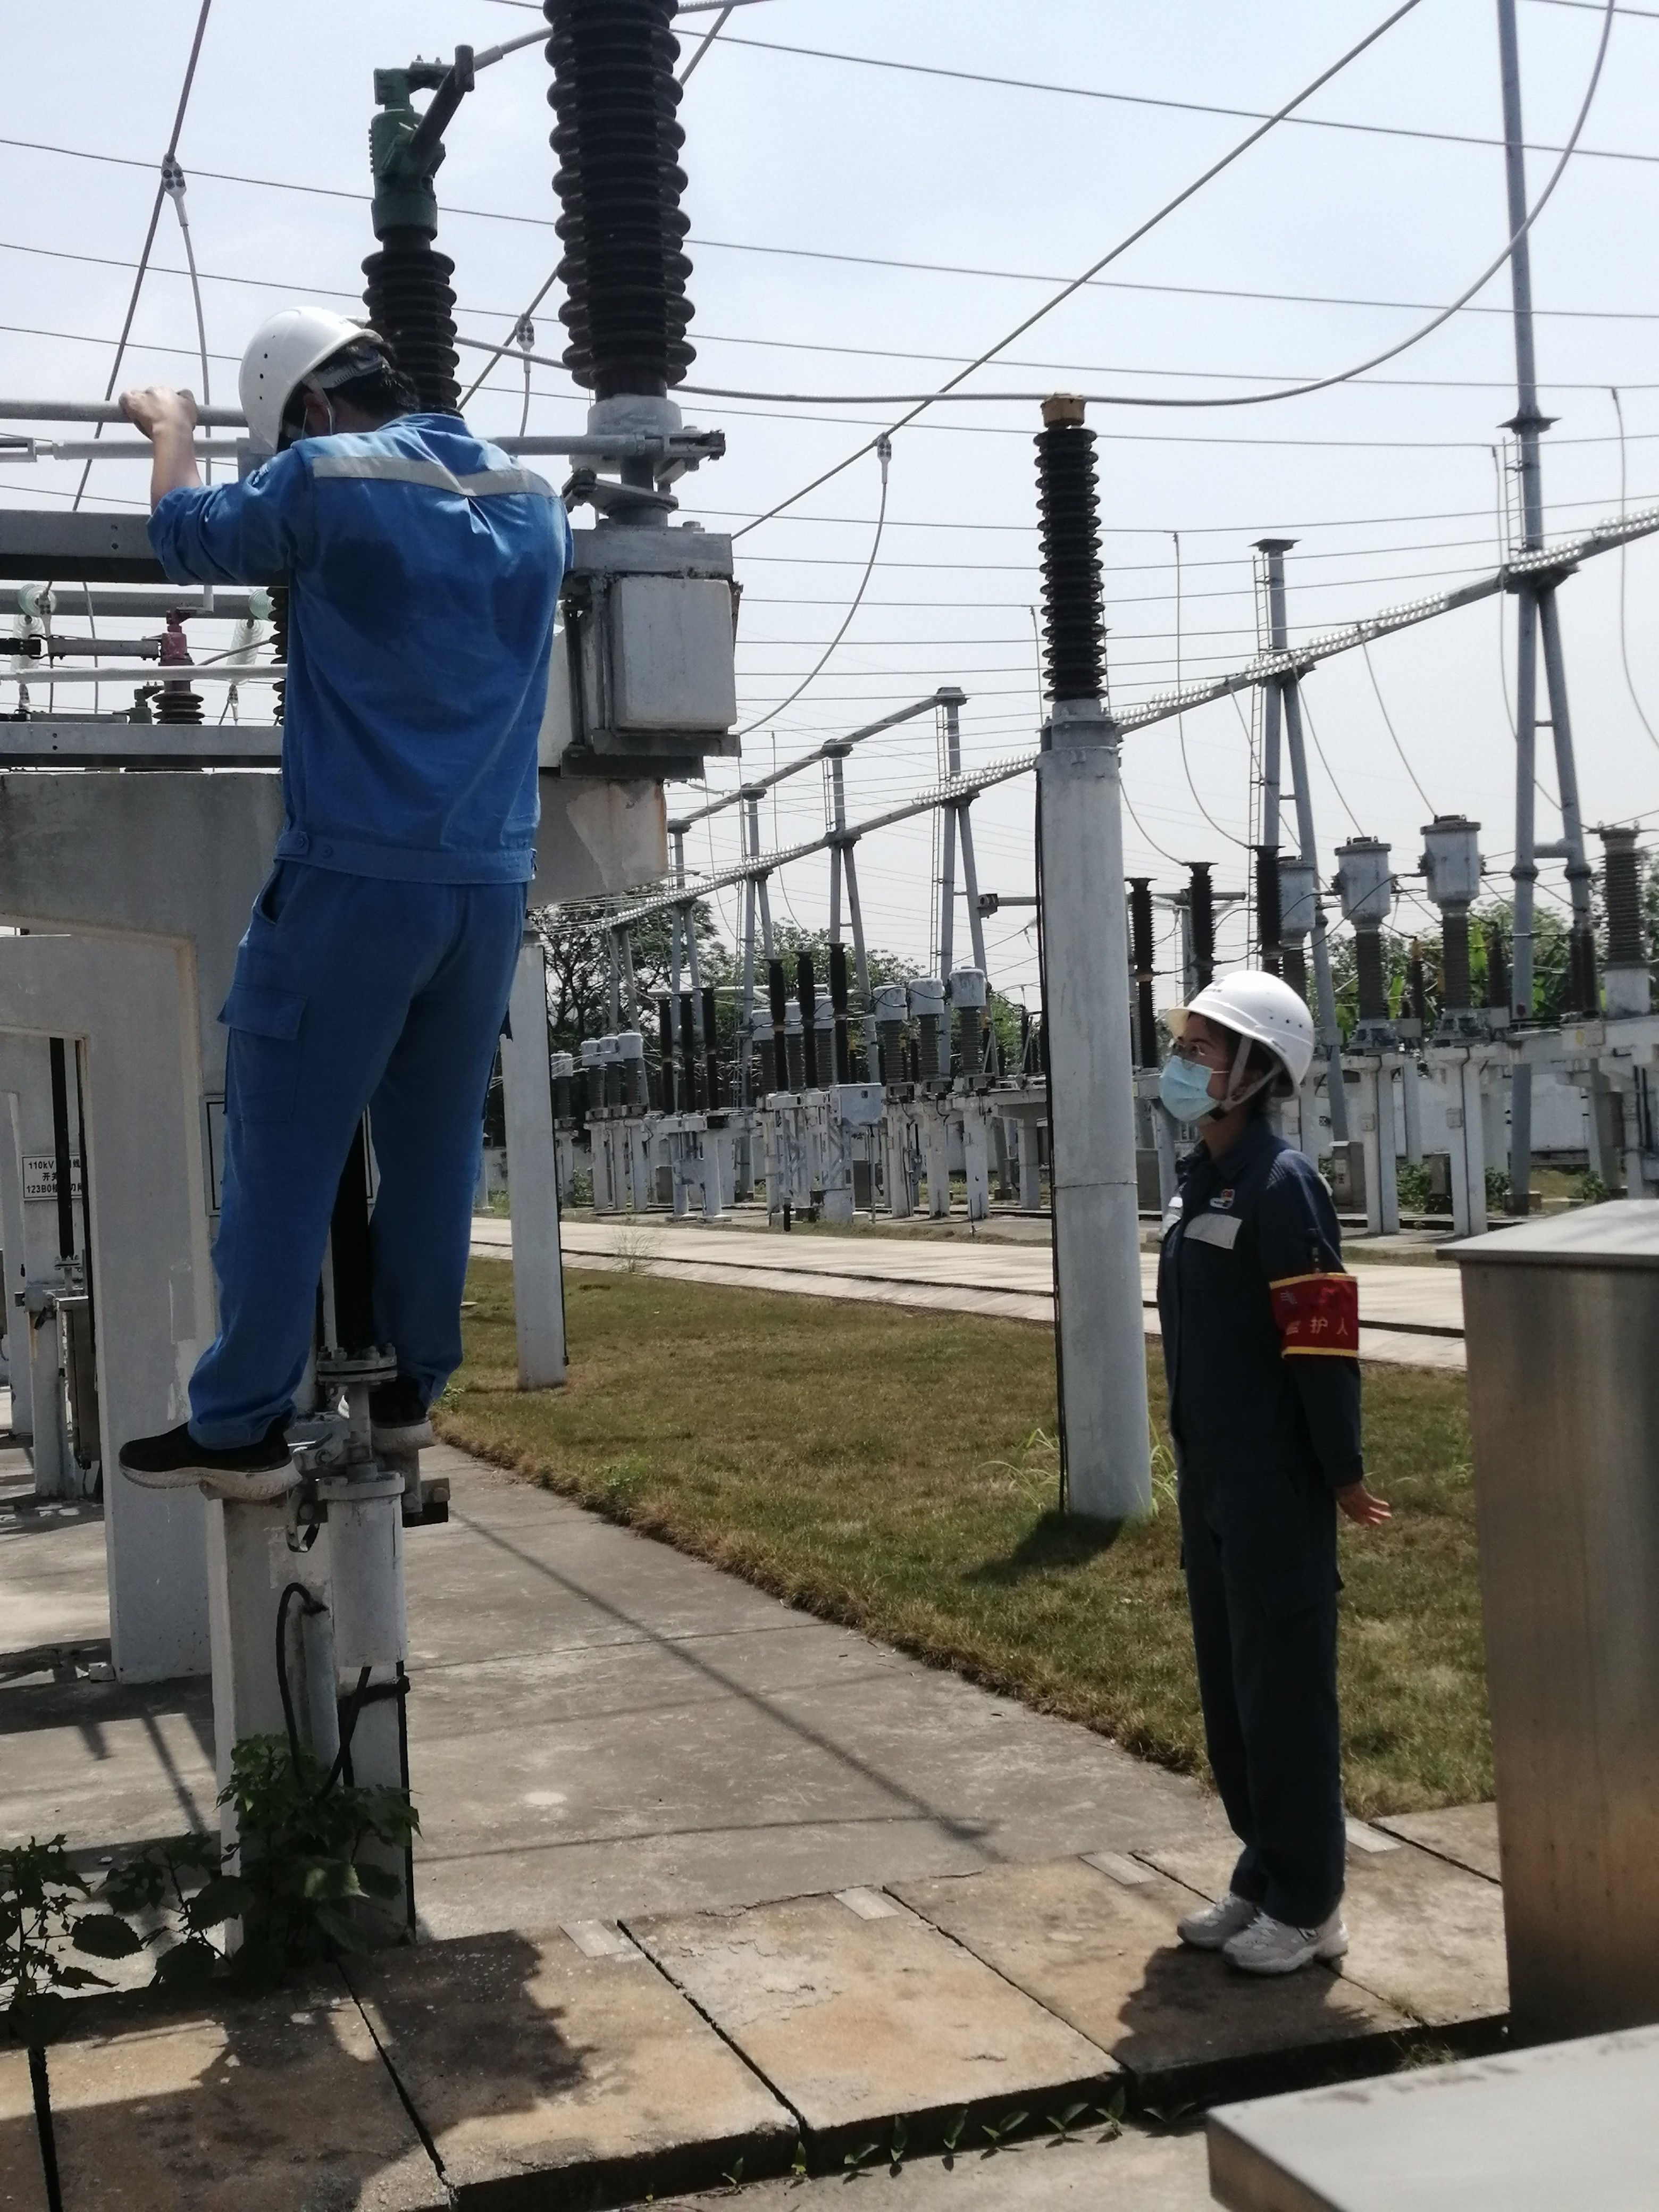downsuit: (186, 907, 530, 1428), (1183, 1522, 1354, 1914)
upsuit: (160, 420, 580, 881), (1148, 1134, 1366, 1496)
wrongtop: (118, 378, 221, 533)
